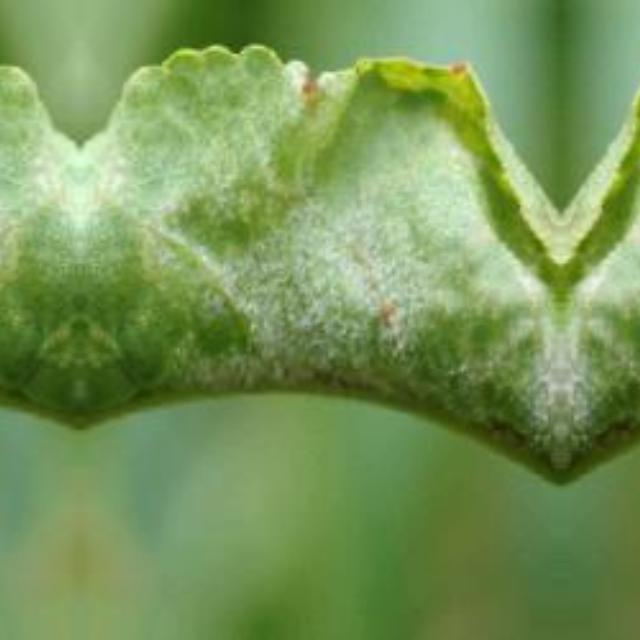Powdery_mildew: (220, 218, 452, 378), (501, 310, 555, 458), (565, 310, 619, 458), (78, 138, 128, 222), (30, 138, 80, 222)
